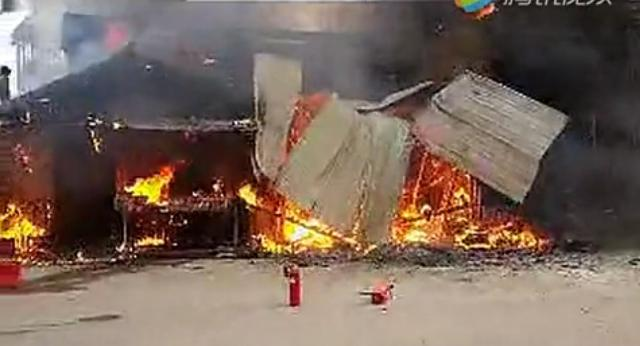fire: (394, 211, 450, 245), (283, 221, 331, 250), (125, 173, 163, 202), (3, 218, 47, 240), (493, 225, 535, 247), (134, 233, 168, 247), (256, 232, 278, 251), (450, 184, 470, 203), (238, 183, 256, 204)
